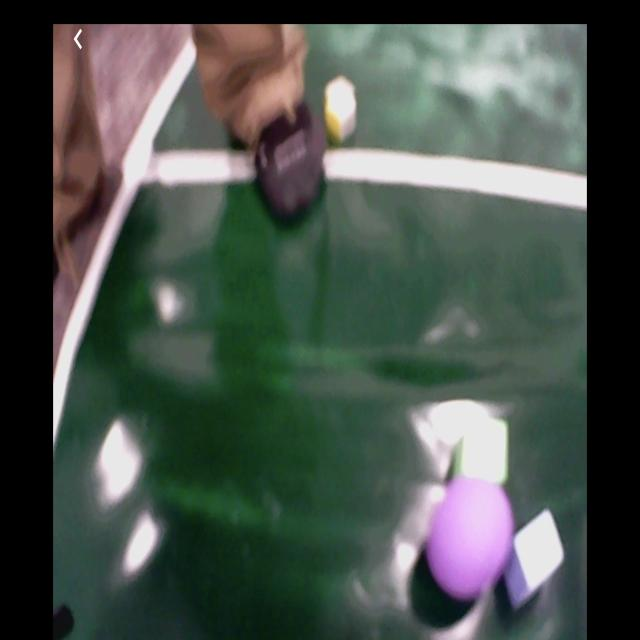ball: (430, 482, 514, 599)
